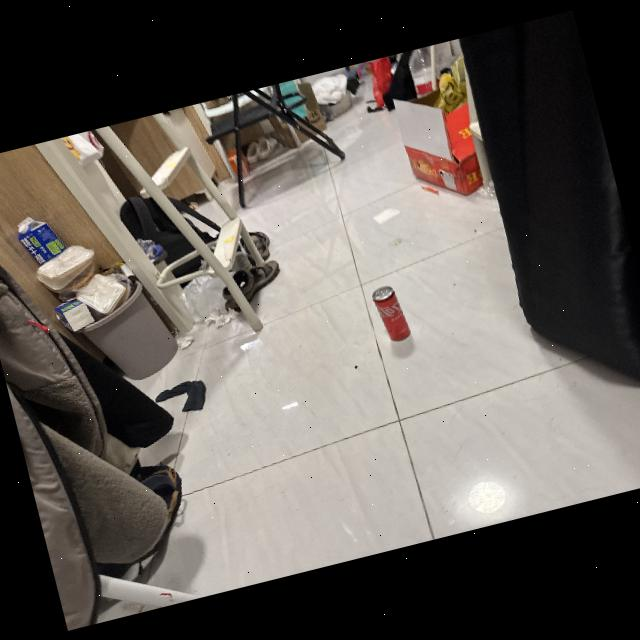Cola: (365, 276, 418, 351)
